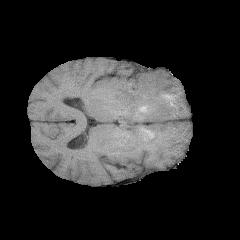glioma: (107, 71, 187, 142)
